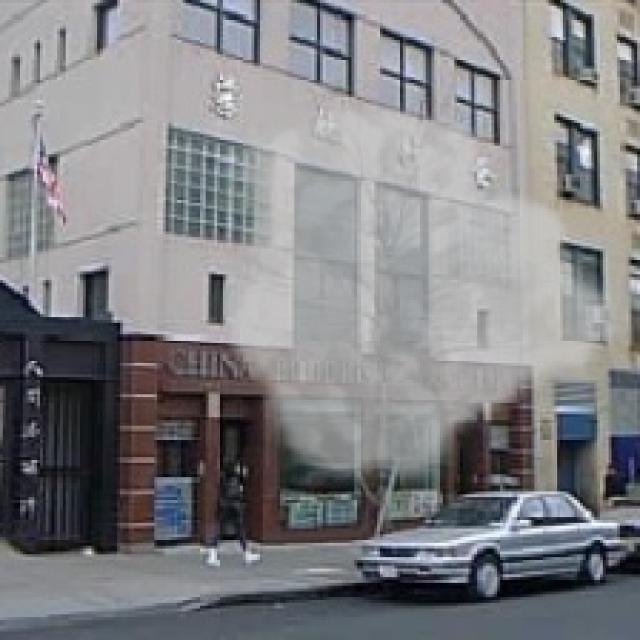smoke: (223, 94, 626, 494)
